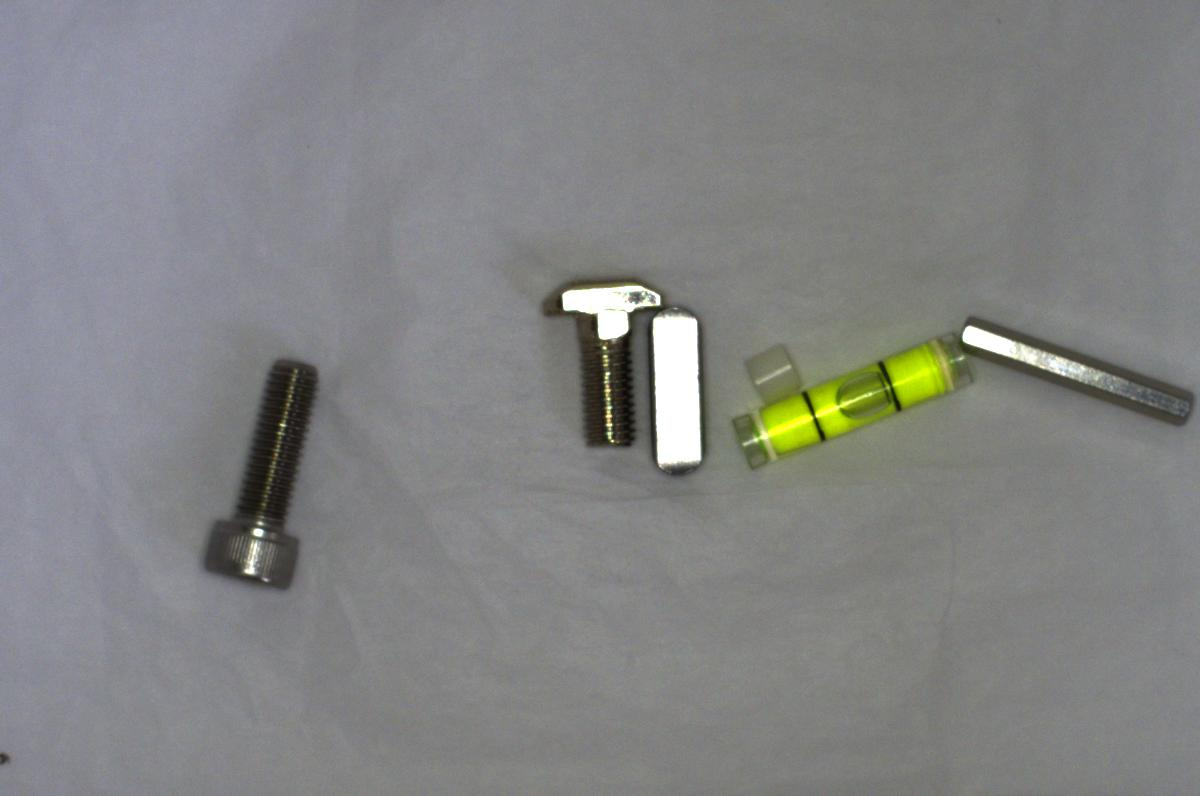Double hexagonal column: (939, 309, 1195, 436)
Hexagon screw: (193, 352, 320, 594)
Horizontal bubble: (720, 332, 973, 475)
Keybar: (640, 300, 710, 482)
Plastic cushion pillar: (732, 334, 805, 401)
T-shaped screw: (534, 267, 661, 458)
